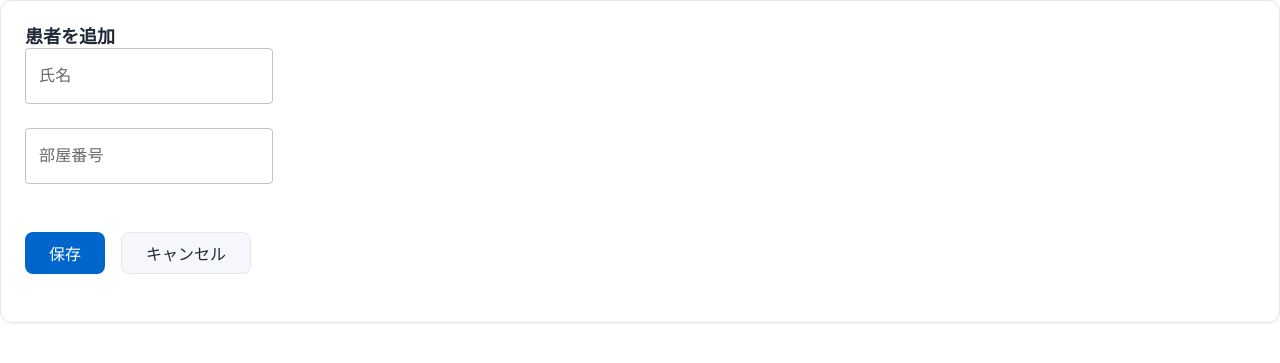
AddPatientForm › 氏名に数字が含まれる場合はエラーを表示
Type "test123" into the field labelled "氏名" at point(149, 76), box [25,48,273,104]
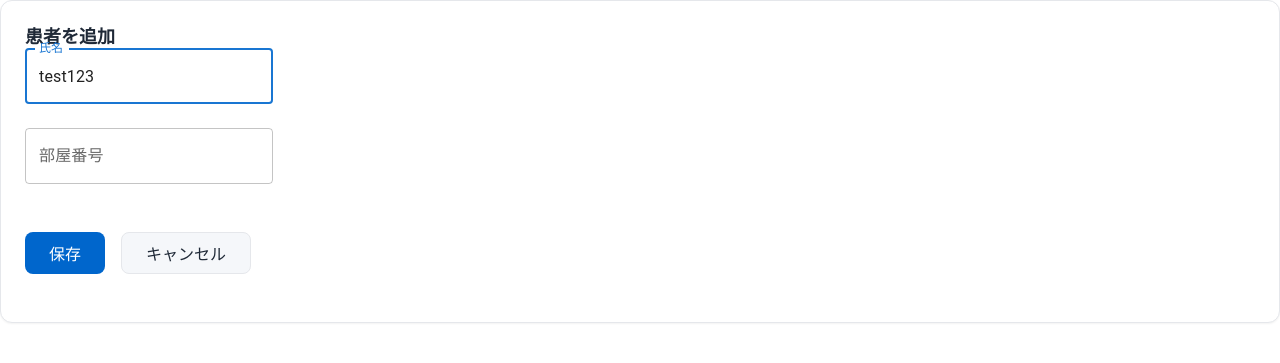
Type "999" into the field labelled "部屋番号" at point(149, 156), box [25,128,273,184]
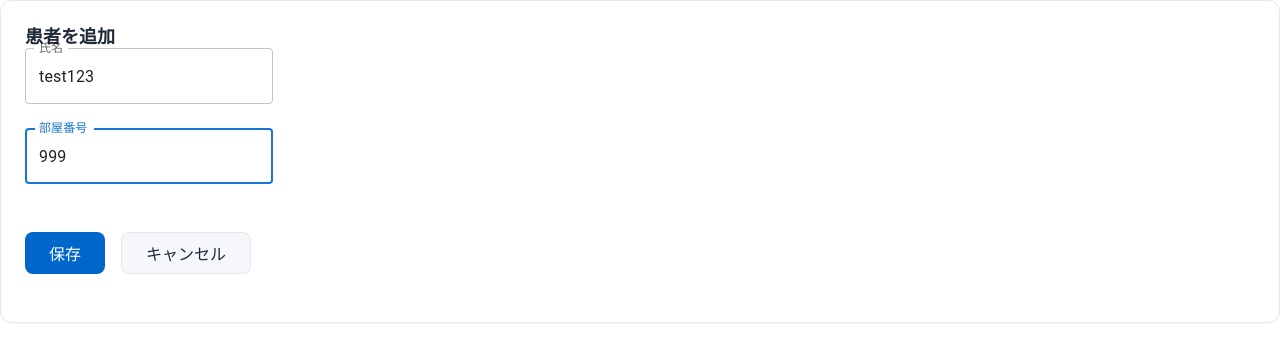
Click the button "保存" at point(65, 253), box [25,232,105,274]
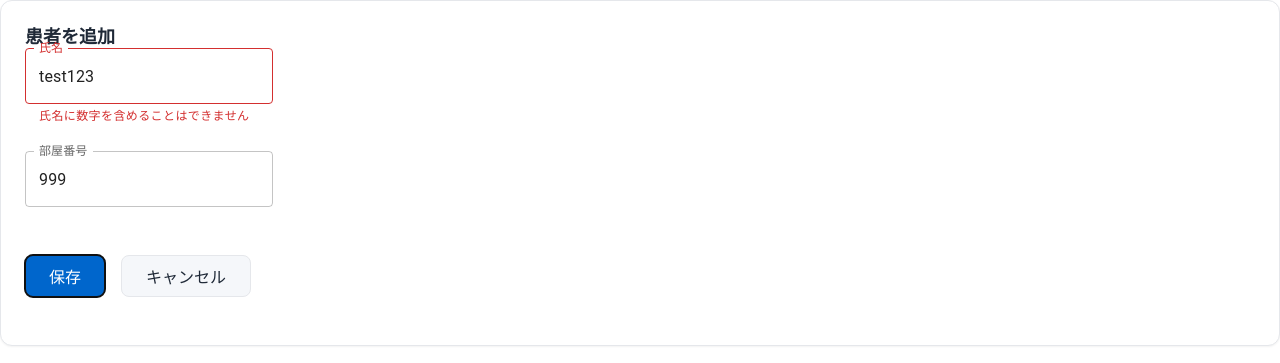
Result: the text "氏名に数字を含めることはできません" is shown at [39,107,259,127]
